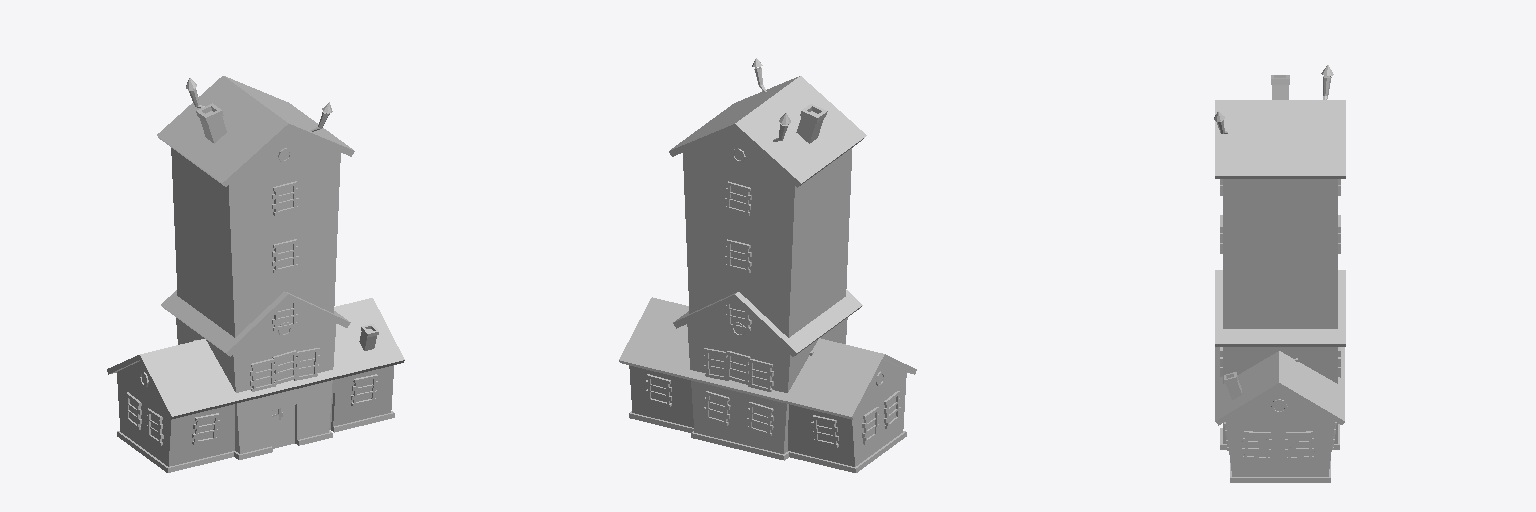
File: LowPoly Cartoon Houses Pack02.obj
3 views of the same model, side by side, from view 1: azimuth 30°, elevation 25°; view 2: azimuth 150°, elevation 25°; view 3: azimuth 270°, elevation 25° (orthographic).
Visible parts, largest first — view 1: h1, h3, h2; view 2: h1, h3, h2; view 3: h1, h3, h2.
Boxes of the visible parts, <box> form: h1: <box>157,76,354,451</box>; h3: <box>107,298,404,472</box>; h2: <box>161,290,350,459</box>; h1: <box>669,58,866,453</box>; h3: <box>619,297,916,472</box>; h2: <box>673,290,862,460</box>; h1: <box>1214,65,1345,328</box>; h3: <box>1215,347,1344,482</box>; h2: <box>1215,270,1345,449</box>.
Size of the model in its own units: 13.32 by 18.69 by 6.55.